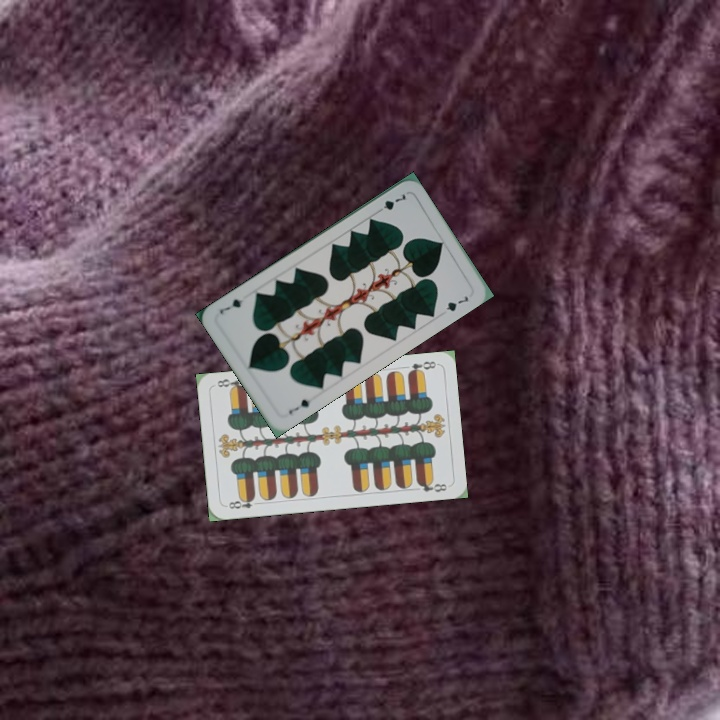E8: (222, 493, 263, 511), (404, 357, 438, 377)
G7: (373, 189, 408, 216), (285, 395, 317, 417)
